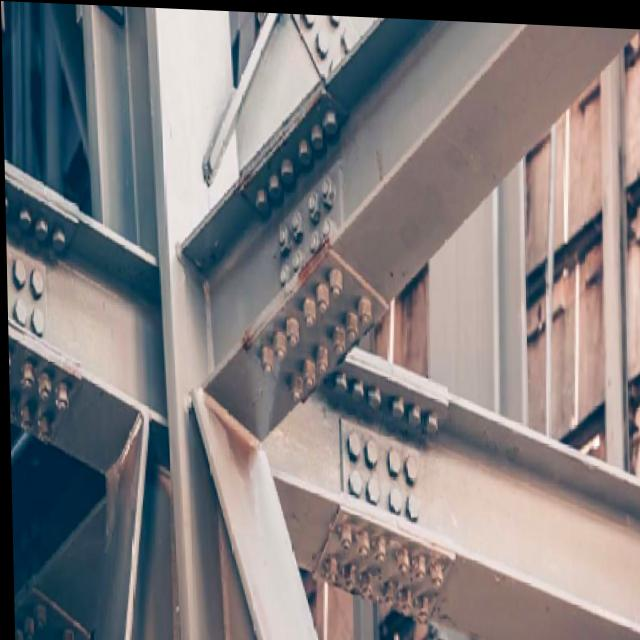Regular bolt: (317, 548, 340, 582), (301, 189, 326, 220), (294, 355, 316, 388), (286, 200, 303, 241), (50, 374, 67, 412), (274, 254, 293, 287), (314, 174, 334, 204), (301, 225, 321, 255), (380, 572, 397, 607), (312, 279, 329, 313), (408, 545, 425, 579), (396, 578, 413, 611), (17, 397, 33, 432), (34, 409, 51, 441), (413, 589, 431, 619), (336, 558, 354, 588), (270, 328, 287, 359), (283, 315, 300, 346), (329, 324, 346, 355), (30, 599, 49, 626), (313, 339, 329, 371), (355, 566, 372, 596), (273, 215, 289, 246), (391, 543, 409, 570), (288, 245, 306, 271), (327, 267, 343, 296), (357, 293, 371, 326), (287, 373, 303, 401), (426, 557, 442, 585), (355, 525, 369, 557), (20, 358, 33, 392), (319, 213, 338, 236), (260, 344, 274, 374), (300, 296, 314, 326), (339, 517, 353, 547), (19, 612, 34, 640), (37, 369, 49, 403), (345, 310, 358, 340), (372, 534, 386, 558)
